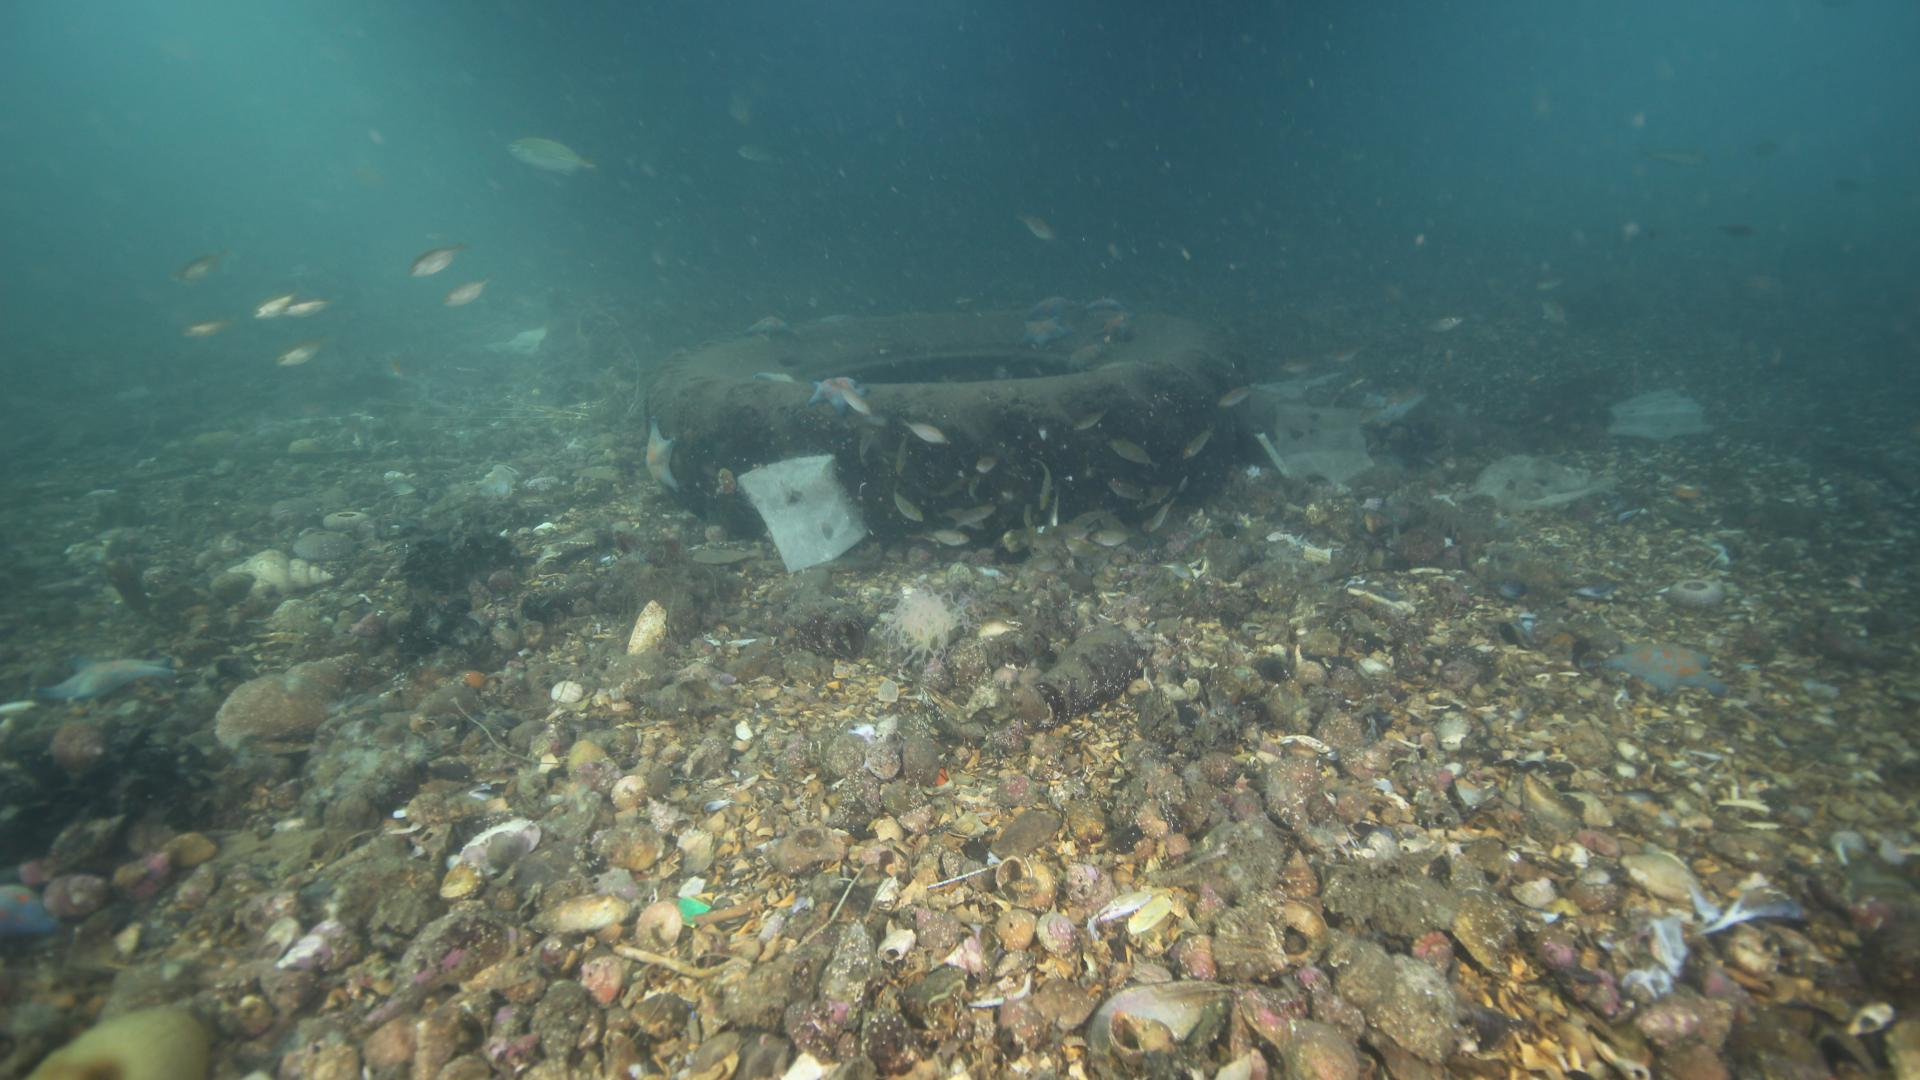tire: (644, 306, 1247, 550)
